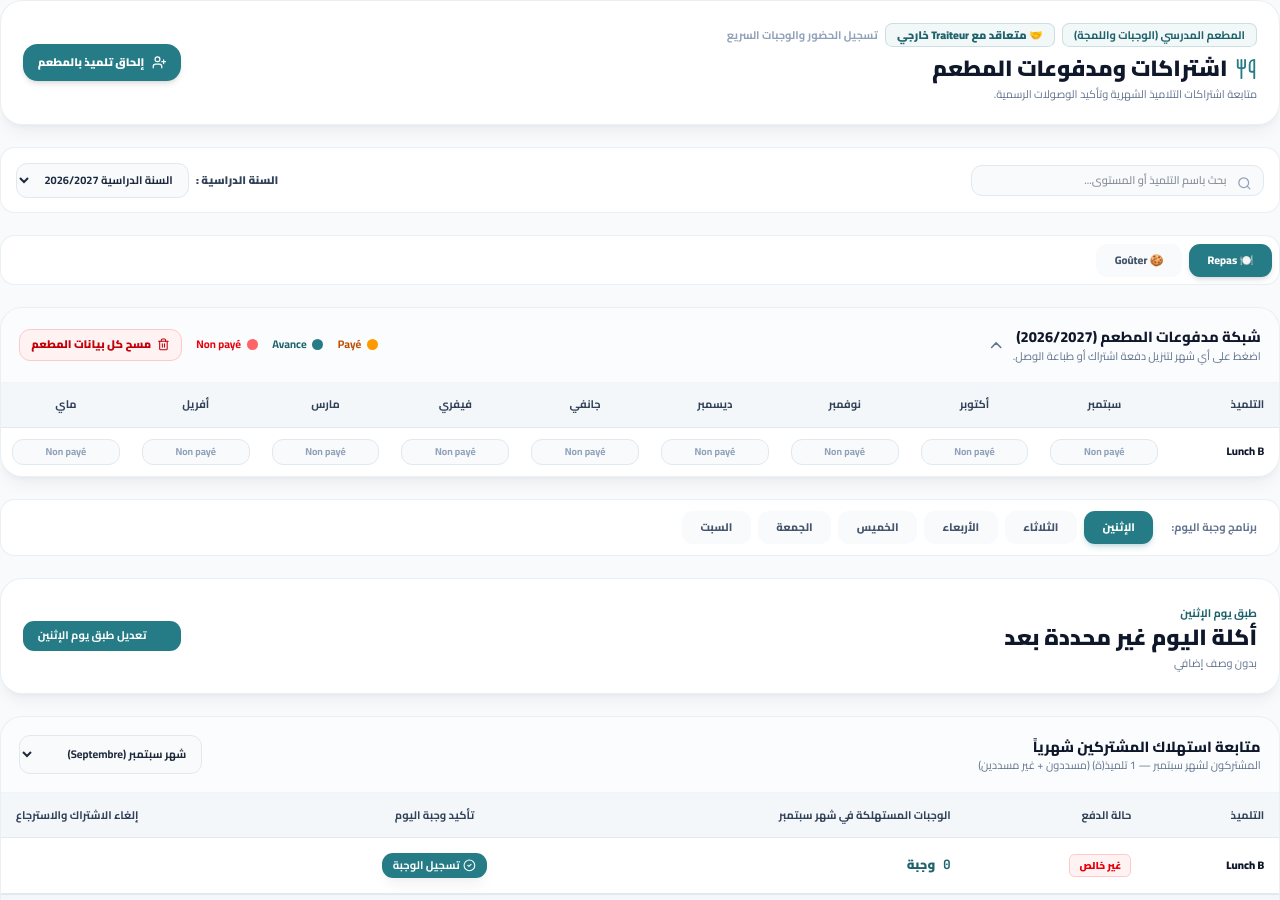
MealsModule — revision D remarks › remark M2: the dedicated Goûter table lists goûter subscribers with type and counts
The width and height of the screenshot is (1280, 900).
Step 1. Click the tab with test id "service-tab-gouter" → {"x": 1139, "y": 260}, box top-left (1096, 244), bottom-right (1182, 277)
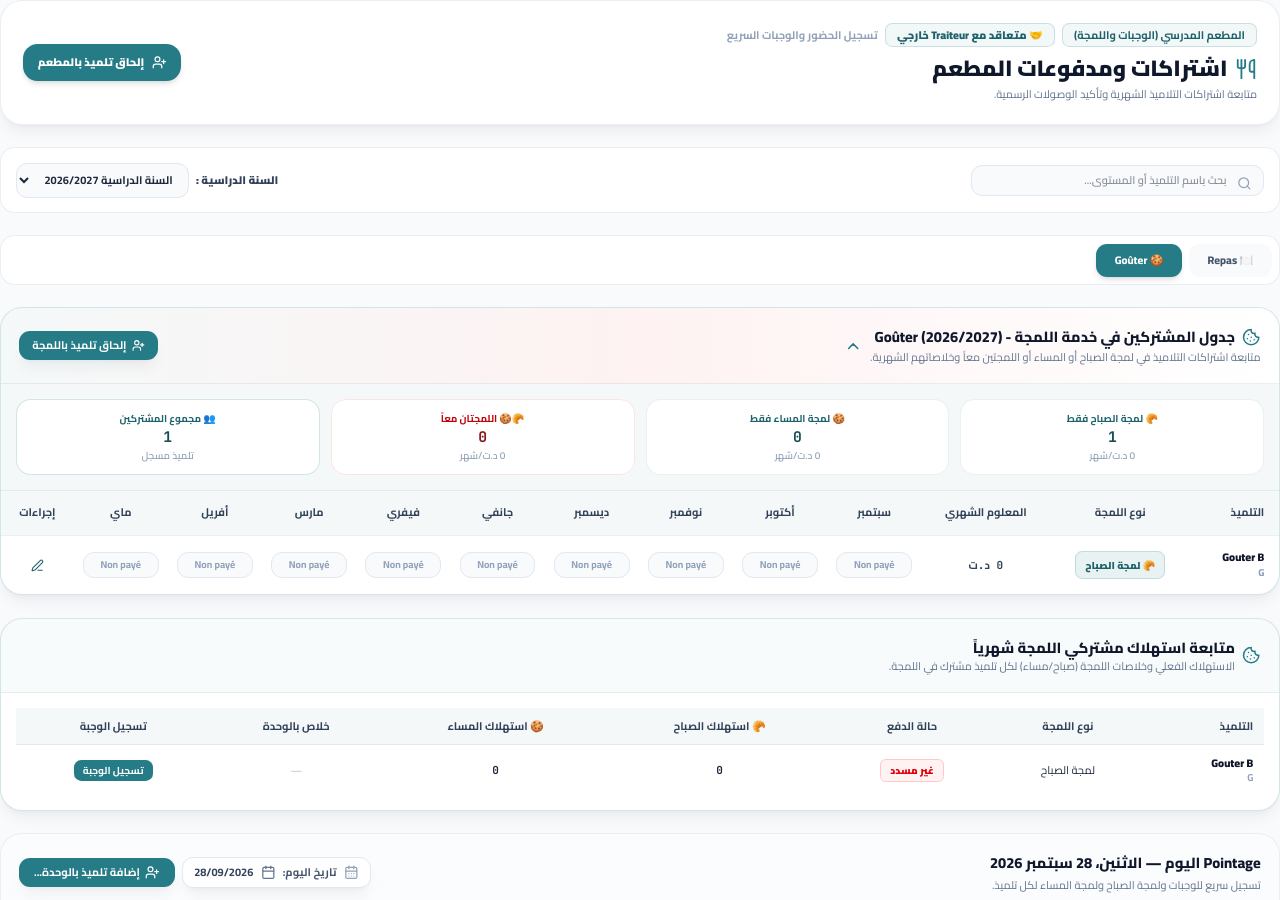
expect the text "Gouter B" in the row of "غير مسدد" is shown: met, box top-left (1141, 745), bottom-right (1264, 795)
expect the text "لمجة الصباح" is shown: met, box top-left (995, 745), bottom-right (1141, 795)
expect the text "Lunch B" is gone: met
